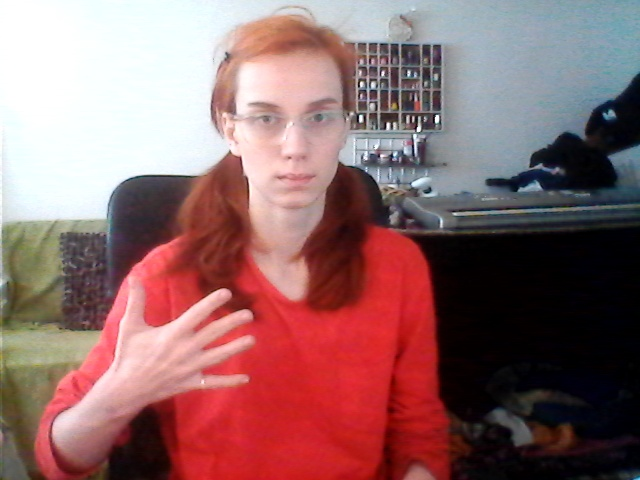pat: (111, 270, 277, 406)
